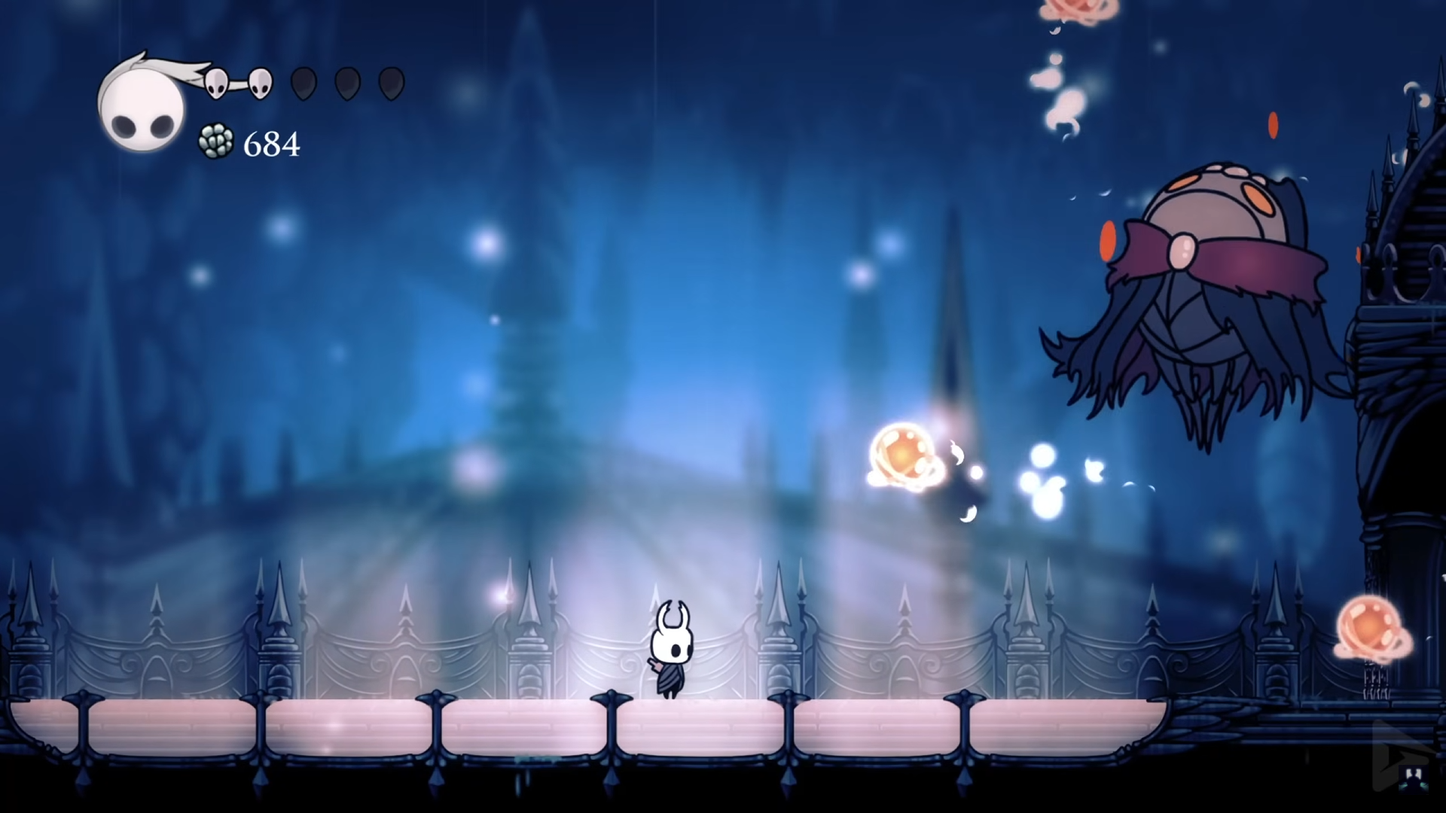HK: (639, 597, 699, 703)
